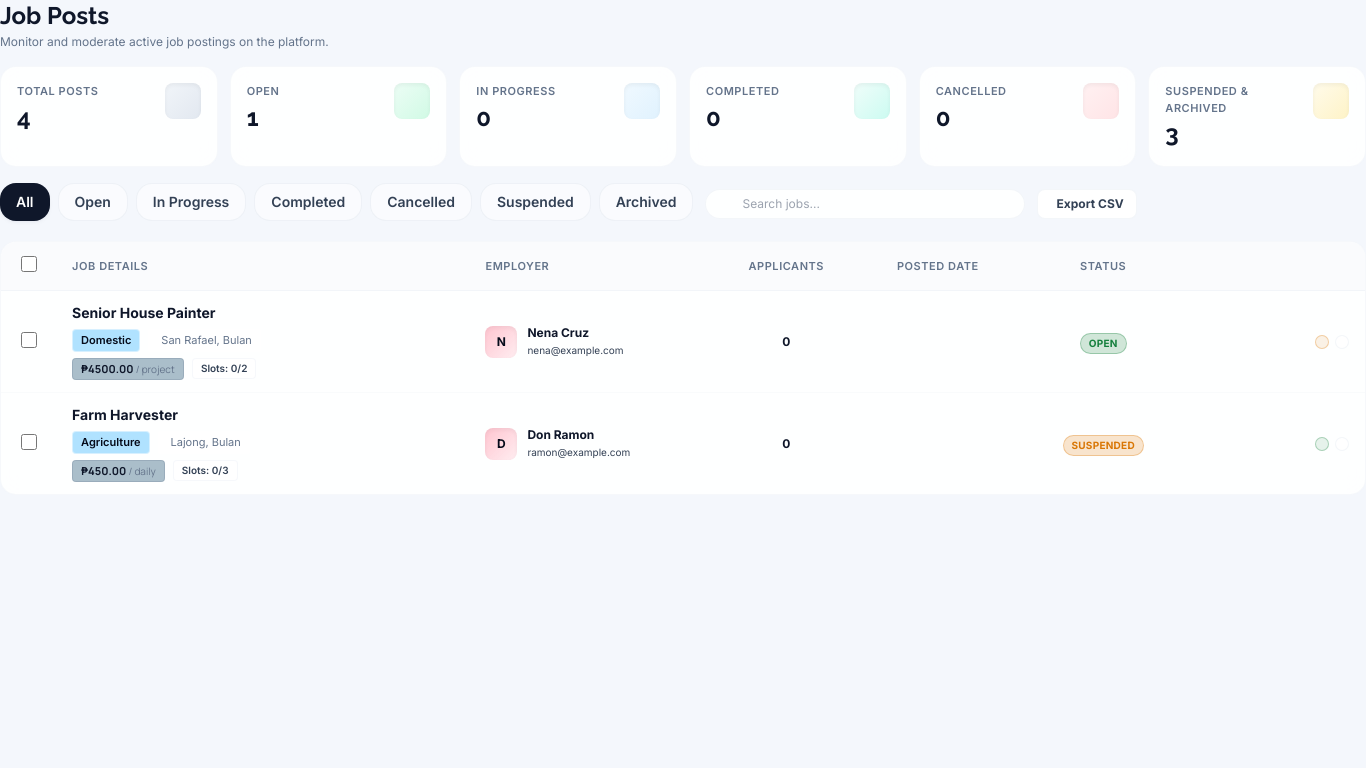
Test case: JobsPage Component › opens centered job details modal when clicking a job row
Click the text "Senior House Painter": (144, 313) [72, 303, 216, 323]
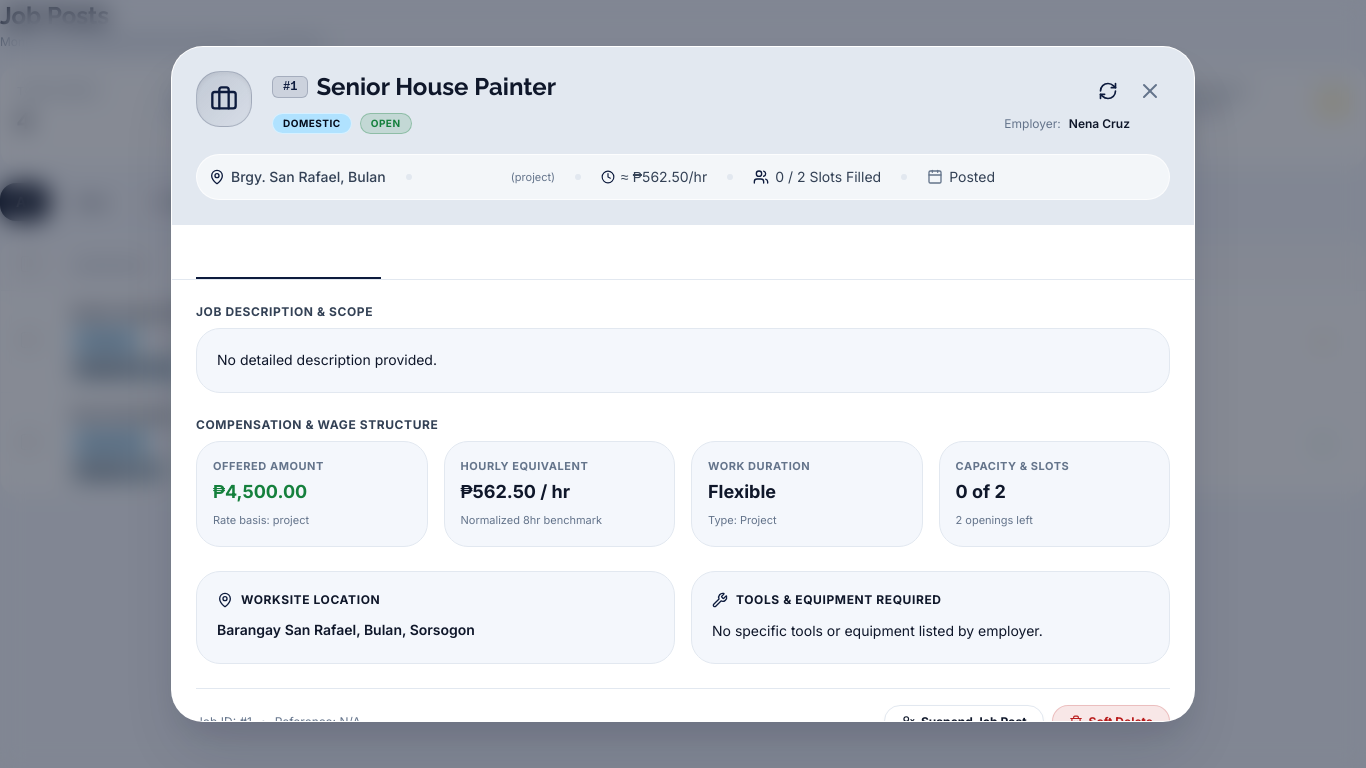
Expected: the dialog is shown
Expected: the button "Job Overview & Specs" is shown, [196, 233, 381, 279]
Expected: the button "Employer Profile" is shown, [389, 233, 533, 279]
Note: Close button should close the modal
Click the button named "Close details": (1150, 91) [1130, 71, 1170, 111]
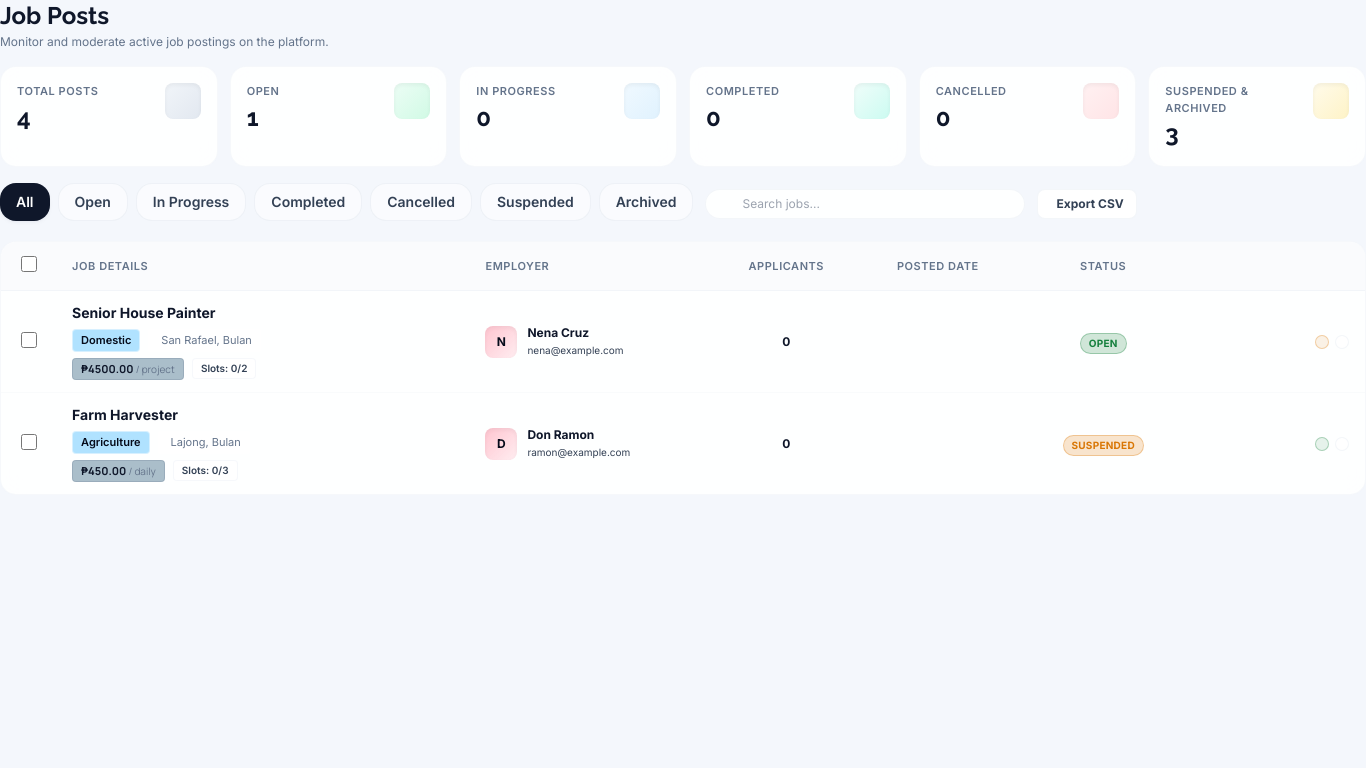
Expected: the dialog is gone
